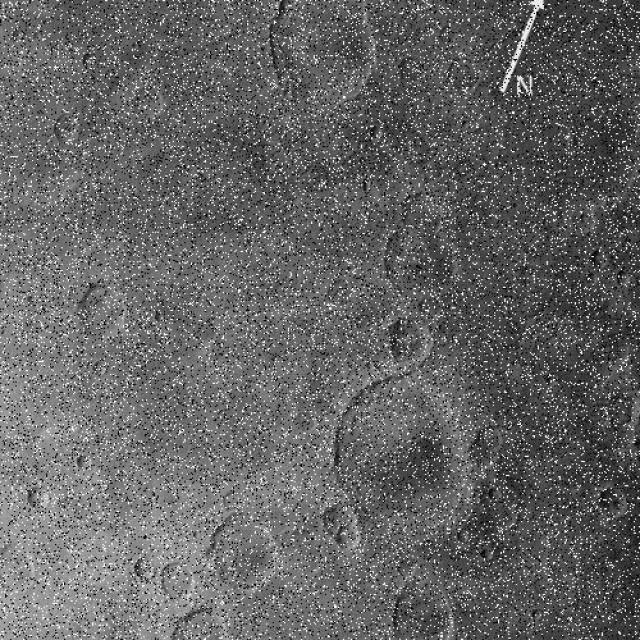crater: (335, 373, 469, 520), (268, 0, 378, 104), (206, 511, 280, 591), (386, 228, 458, 302), (388, 578, 456, 640), (78, 281, 126, 340), (399, 189, 445, 235), (0, 542, 34, 591), (447, 57, 481, 94), (162, 560, 194, 598), (132, 86, 162, 120), (597, 485, 627, 519), (327, 277, 355, 309), (53, 114, 79, 144), (399, 57, 423, 84), (132, 556, 156, 582), (28, 486, 50, 512)
